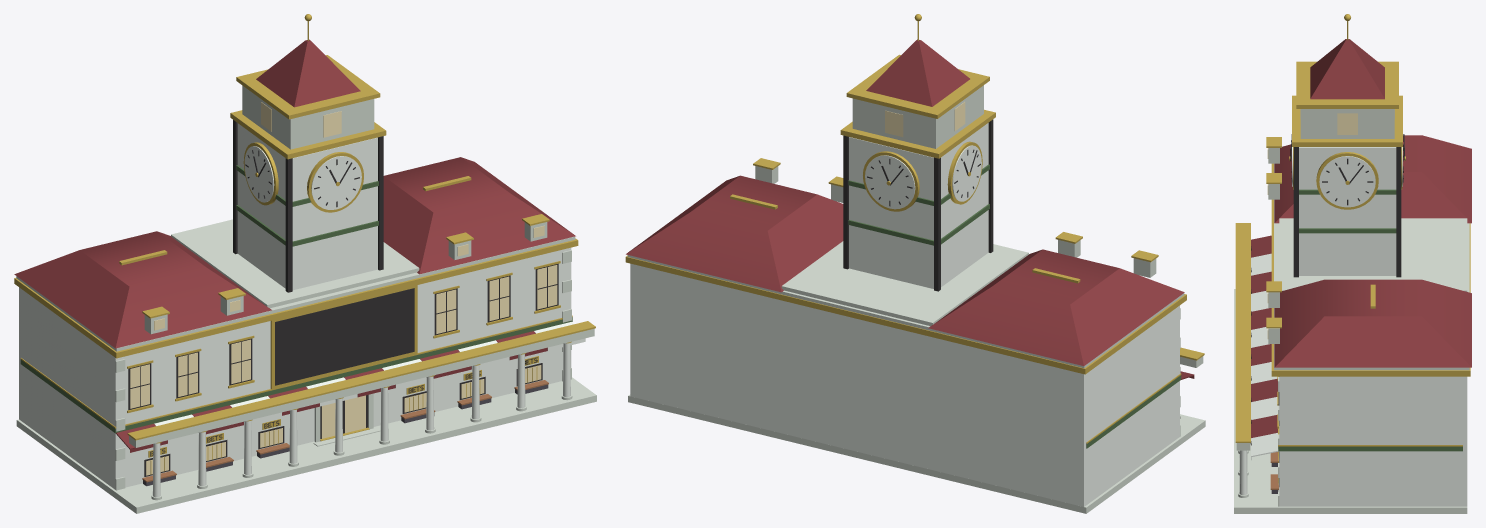
The model's file is downs-club.glb.
3 views of the same model, side by side, from view 1: azimuth 30°, elevation 25°; view 2: azimuth 150°, elevation 25°; view 3: azimuth 270°, elevation 25° (orthographic). The views are drawn at different scales.
Visible parts, largest first — view 1: dn_club_mint, dn_club_barn, dn_club_mint2, dn_club_gold, dn_club_black, dn_club_glasswarm, dn_club_money2, dn_club_saddle, dn_club_black2; view 2: dn_club_mint, dn_club_barn, dn_club_mint2, dn_club_gold, dn_club_black, dn_club_money2, dn_club_glasswarm; view 3: dn_club_mint, dn_club_barn, dn_club_mint2, dn_club_gold, dn_club_black, dn_club_money2, dn_club_glasswarm.
Part boxes in pixels (left/top/right/bottom): dn_club_mint: left=19, top=123, right=585, bottom=497; dn_club_barn: left=14, top=39, right=575, bottom=452; dn_club_mint2: left=16, top=85, right=596, bottom=513; dn_club_gold: left=14, top=14, right=595, bottom=474; dn_club_black: left=128, top=120, right=558, bottom=476; dn_club_glasswarm: left=130, top=102, right=557, bottom=475; dn_club_money2: left=20, top=165, right=572, bottom=433; dn_club_saddle: left=142, top=380, right=548, bottom=482; dn_club_black2: left=143, top=384, right=548, bottom=486; dn_club_mint: left=630, top=123, right=1179, bottom=506; dn_club_barn: left=626, top=39, right=1194, bottom=379; dn_club_mint2: left=627, top=85, right=1205, bottom=513; dn_club_gold: left=625, top=14, right=1204, bottom=443; dn_club_black: left=843, top=119, right=993, bottom=291; dn_club_money2: left=848, top=164, right=1181, bottom=448; dn_club_glasswarm: left=885, top=102, right=965, bottom=136; dn_club_mint: left=1239, top=147, right=1467, bottom=506; dn_club_barn: left=1251, top=39, right=1471, bottom=437; dn_club_mint2: left=1234, top=109, right=1469, bottom=513; dn_club_gold: left=1235, top=14, right=1470, bottom=483; dn_club_black: left=1250, top=134, right=1404, bottom=486; dn_club_money2: left=1278, top=189, right=1462, bottom=451; dn_club_glasswarm: left=1267, top=109, right=1394, bottom=484.
Bounding box in the file's own units: 60.8 × 50.42 × 27.86.
